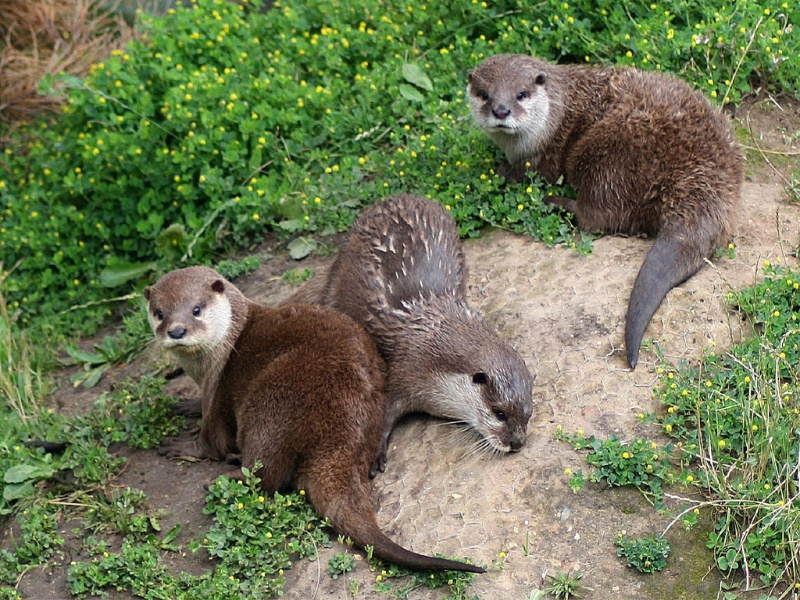minkish: (136, 262, 492, 584), (468, 58, 749, 374), (319, 190, 539, 461)
